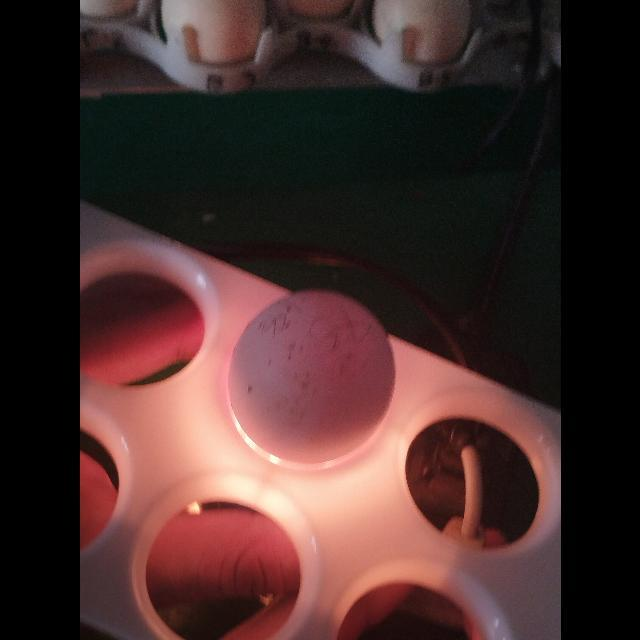Fertile: (225, 288, 399, 467)
